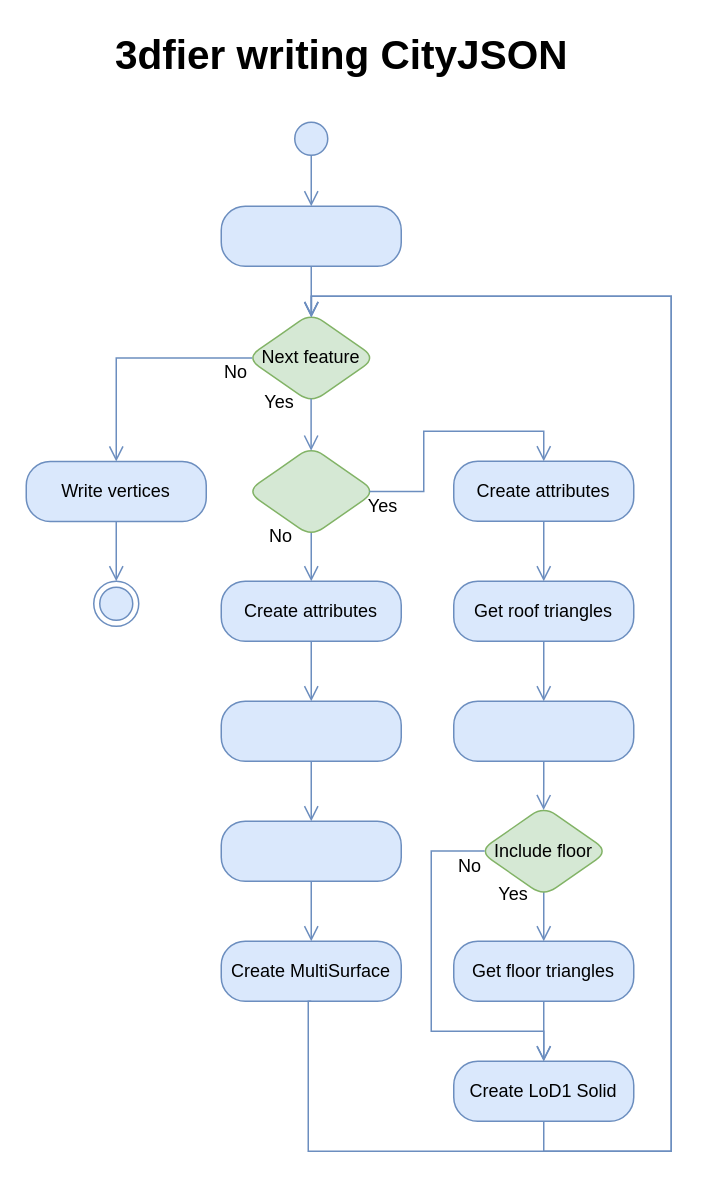
Some shapes in this 713 by 1193 pixel diagram are drawn without their labels. The shapes that lost their labels are listed below. From the top down, each one's box as (x1, y1, x2, y2) in pixels, then its label:
(220, 205, 401, 266): Get CityJSON header
(245, 445, 376, 537): Building
(220, 700, 401, 761): Get triangles
(452, 700, 634, 761): Get wall triangles
(220, 820, 401, 881): Get vertical triangles
